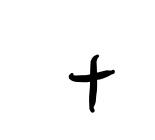plus: (68, 54, 115, 112)
